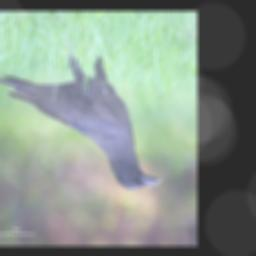Crow: (0, 42, 161, 191)
